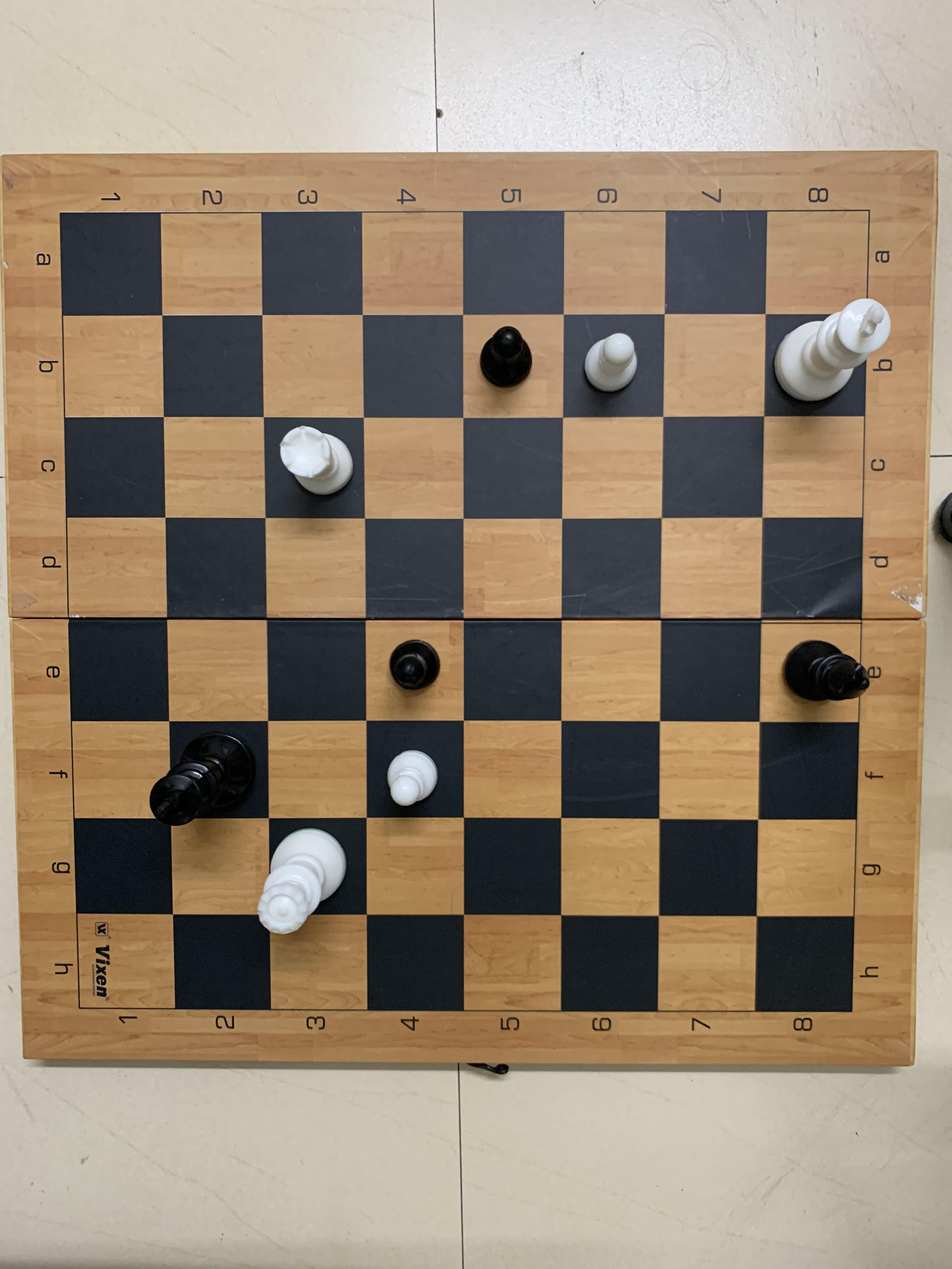black_bishop: (778, 630, 873, 716)
black_king: (139, 724, 257, 828)
black_pawn: (479, 318, 539, 405), (383, 629, 444, 696)
white_king: (771, 287, 898, 405)
white_pawn: (575, 328, 644, 397), (381, 741, 441, 811)
white_queen: (252, 820, 350, 941)
white_rook: (274, 419, 364, 502)
